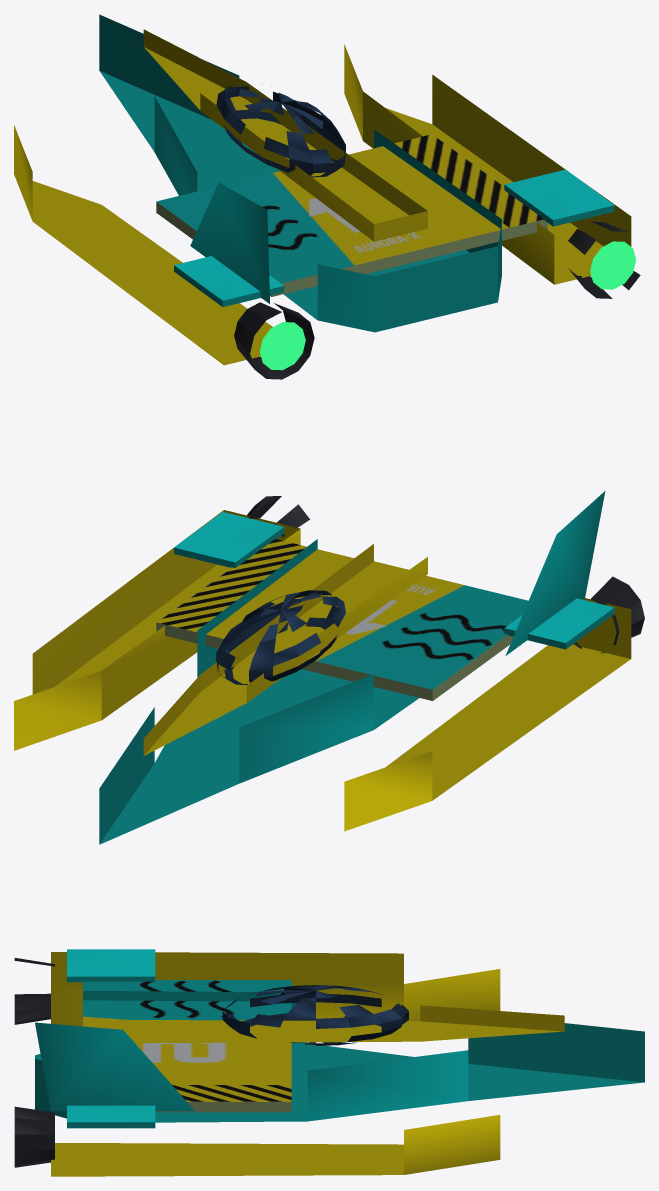
Rendered from craft_2.glb.
3 views of the same model, one above another, from view 1: azimuth 30°, elevation 25°; view 2: azimuth 150°, elevation 25°; view 3: azimuth 270°, elevation 25° (orthographic). The views are drawn at different scales.
Parts seen in each view (by area): view 1: craft_2_body, flap_R_plate.002, flap_L_plate.002; view 2: craft_2_body, flap_R_plate.002, flap_L_plate.002; view 3: craft_2_body, flap_L_plate.002, flap_R_plate.002.
Part boxes in pixels (<box>): craft_2_body: <box>14,14,640,379</box>; flap_R_plate.002: <box>504,169,614,226</box>; flap_L_plate.002: <box>174,256,284,306</box>; craft_2_body: <box>14,491,644,844</box>; flap_R_plate.002: <box>174,512,284,567</box>; flap_L_plate.002: <box>504,598,614,649</box>; craft_2_body: <box>14,952,644,1176</box>; flap_L_plate.002: <box>67,949,155,982</box>; flap_R_plate.002: <box>67,1105,155,1128</box>.
Size of the model in its own units: 5.3 by 2.02 by 7.86.
Materials: 6 (1 with a texture image).
